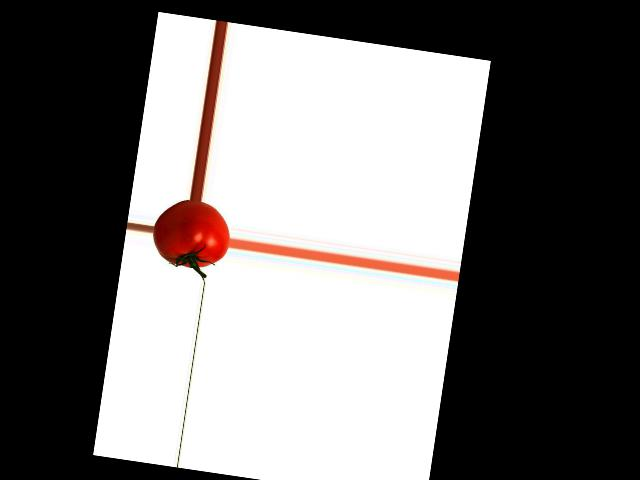tomato: (148, 196, 233, 273)
